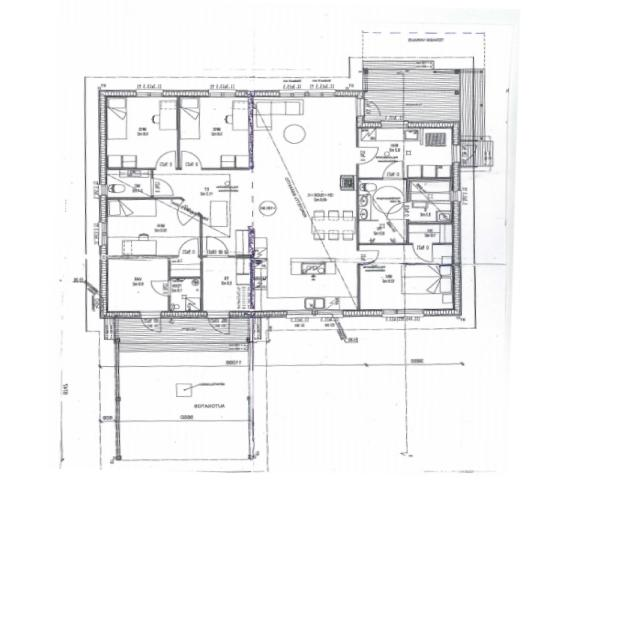door: (169, 200, 199, 226), (208, 310, 230, 336), (207, 236, 229, 258), (356, 99, 384, 116), (141, 311, 161, 334), (155, 150, 176, 170), (453, 146, 479, 162), (386, 202, 409, 220), (182, 150, 202, 170), (179, 238, 199, 258), (383, 160, 404, 179), (356, 147, 378, 164), (151, 178, 173, 195), (413, 243, 432, 262), (150, 281, 170, 296), (356, 251, 376, 265)
